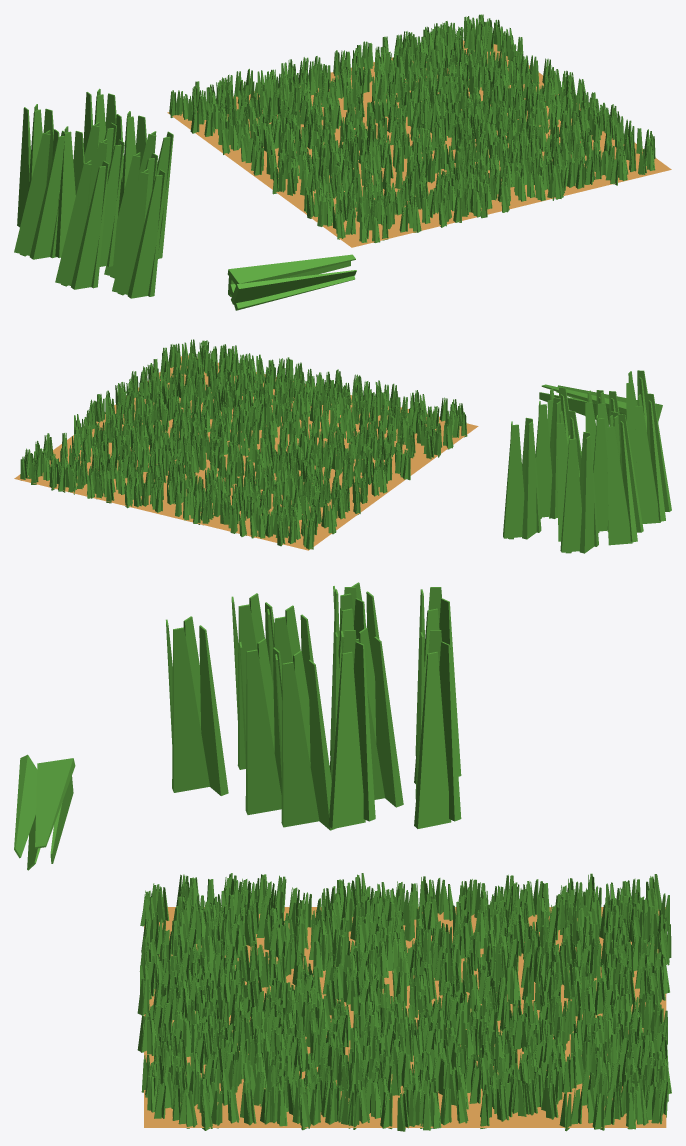
Rendered from Append-ShortGrass.fbx.
3 views of the same model, one above another, from view 1: azimuth 30°, elevation 25°; view 2: azimuth 150°, elevation 25°; view 3: azimuth 270°, elevation 25° (orthographic). The views are drawn at different scales.
Parts seen in each view (by area): view 1: Plane.002, GrassShort, Cube.011, Cube.008, Cube.009, Cube.010, Cube.004, Cube.002, Cube.007, Cube.005, Cube.013, Cube.003 (+1 smaller); view 2: Plane.002, Cube.002, Cube.003, Cube.009, Cube.008, Cube.005, Cube.004, Cube.006, GrassShort, Cube.011, Cube.007, Cube.013 (+1 smaller); view 3: Plane.002, Cube.011, Cube.013, Cube.003, Cube.005, Cube.007, GrassShort, Cube.006, Cube.008, Cube.002, Cube.010, Cube.004 (+1 smaller).
Part boxes in pixels (box(x1,y1,x2,y2)): Plane.002: box(167, 40, 671, 247); GrassShort: box(227, 254, 356, 310); Cube.011: box(112, 169, 165, 298); Cube.008: box(55, 160, 108, 289); Cube.009: box(14, 130, 65, 259); Cube.010: box(87, 139, 124, 266); Cube.004: box(52, 126, 84, 257); Cube.002: box(17, 104, 53, 227); Cube.007: box(104, 152, 157, 278); Cube.005: box(115, 111, 146, 215); Cube.013: box(139, 131, 173, 258); Cube.003: box(83, 88, 116, 154); Plane.002: box(14, 355, 478, 550); Cube.002: box(560, 432, 598, 553); Cube.003: box(503, 417, 541, 539); Cube.009: box(607, 414, 643, 545); Cube.008: box(635, 393, 671, 523); Cube.005: box(535, 397, 561, 518); Cube.004: box(593, 411, 620, 532); Cube.006: box(557, 410, 581, 541); GrassShort: box(539, 384, 662, 424); Cube.011: box(626, 370, 647, 482); Cube.007: box(585, 390, 608, 467); Cube.013: box(547, 387, 569, 518); Plane.002: box(144, 907, 666, 1127); Cube.011: box(166, 616, 228, 795); Cube.013: box(275, 650, 334, 830); Cube.003: box(414, 630, 461, 828); Cube.005: box(328, 630, 375, 828); Cube.007: box(239, 638, 282, 814); GrassShort: box(14, 754, 75, 870); Cube.006: box(341, 627, 403, 807); Cube.008: box(231, 593, 274, 769); Cube.002: box(414, 587, 461, 783); Cube.010: box(267, 605, 313, 698); Cube.004: box(329, 587, 365, 772).
Bounding box in the file's own units: 362 × 82.59 × 252.
